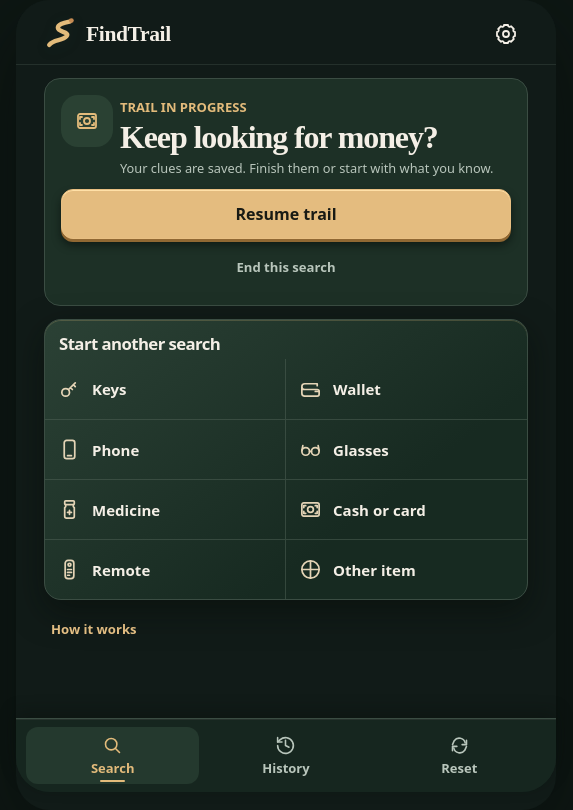
Test: search improvements › keeps essential money guidance on a quick start
This screenshot has width=573, height=810.
Click the button "Resume trail": coordinates (286, 214) [61,190,511,240]
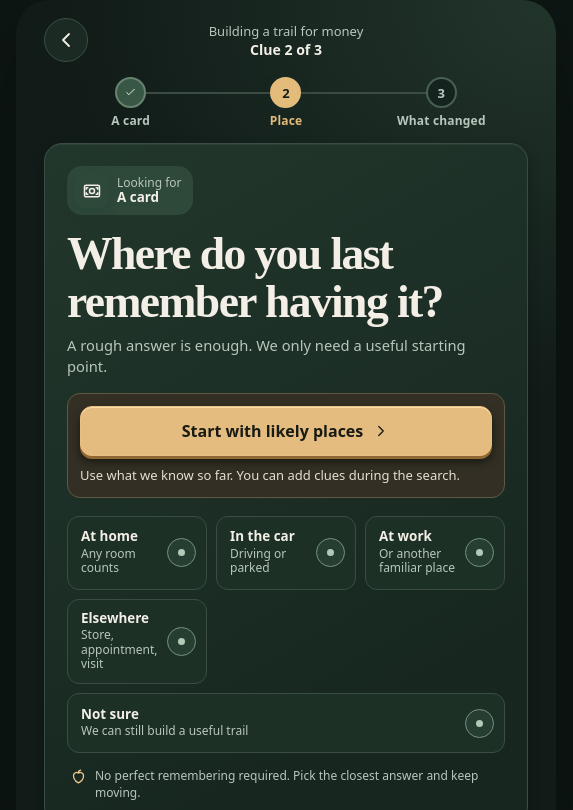
Click the button "Start with likely places": coordinates (286, 431) [80,406,492,456]
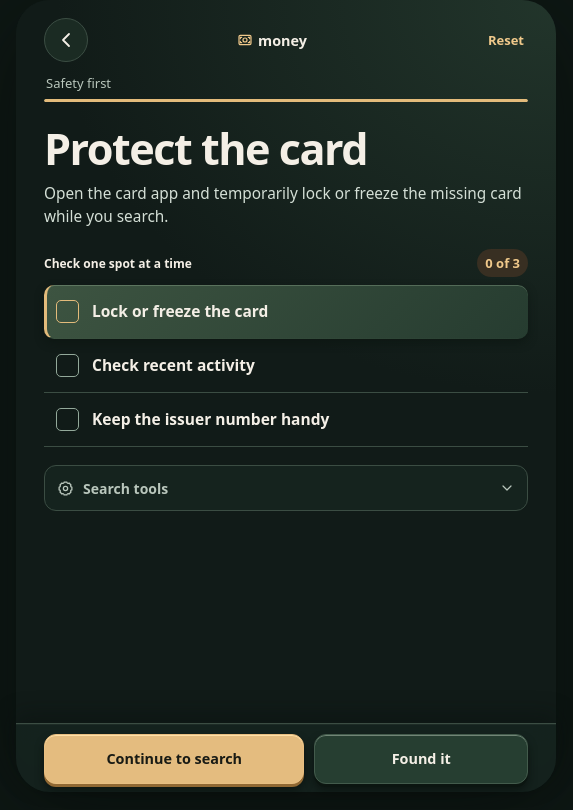
expect the heading "Protect the card" is shown: met, box [44,119,367,178]
